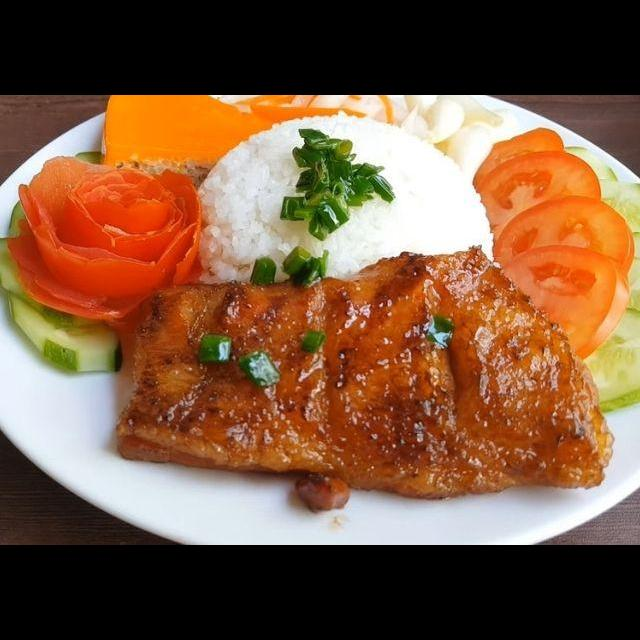cha: (96, 96, 278, 193)
com: (187, 112, 498, 292)
com suon cha: (0, 129, 640, 543)
suon: (112, 240, 621, 518)
